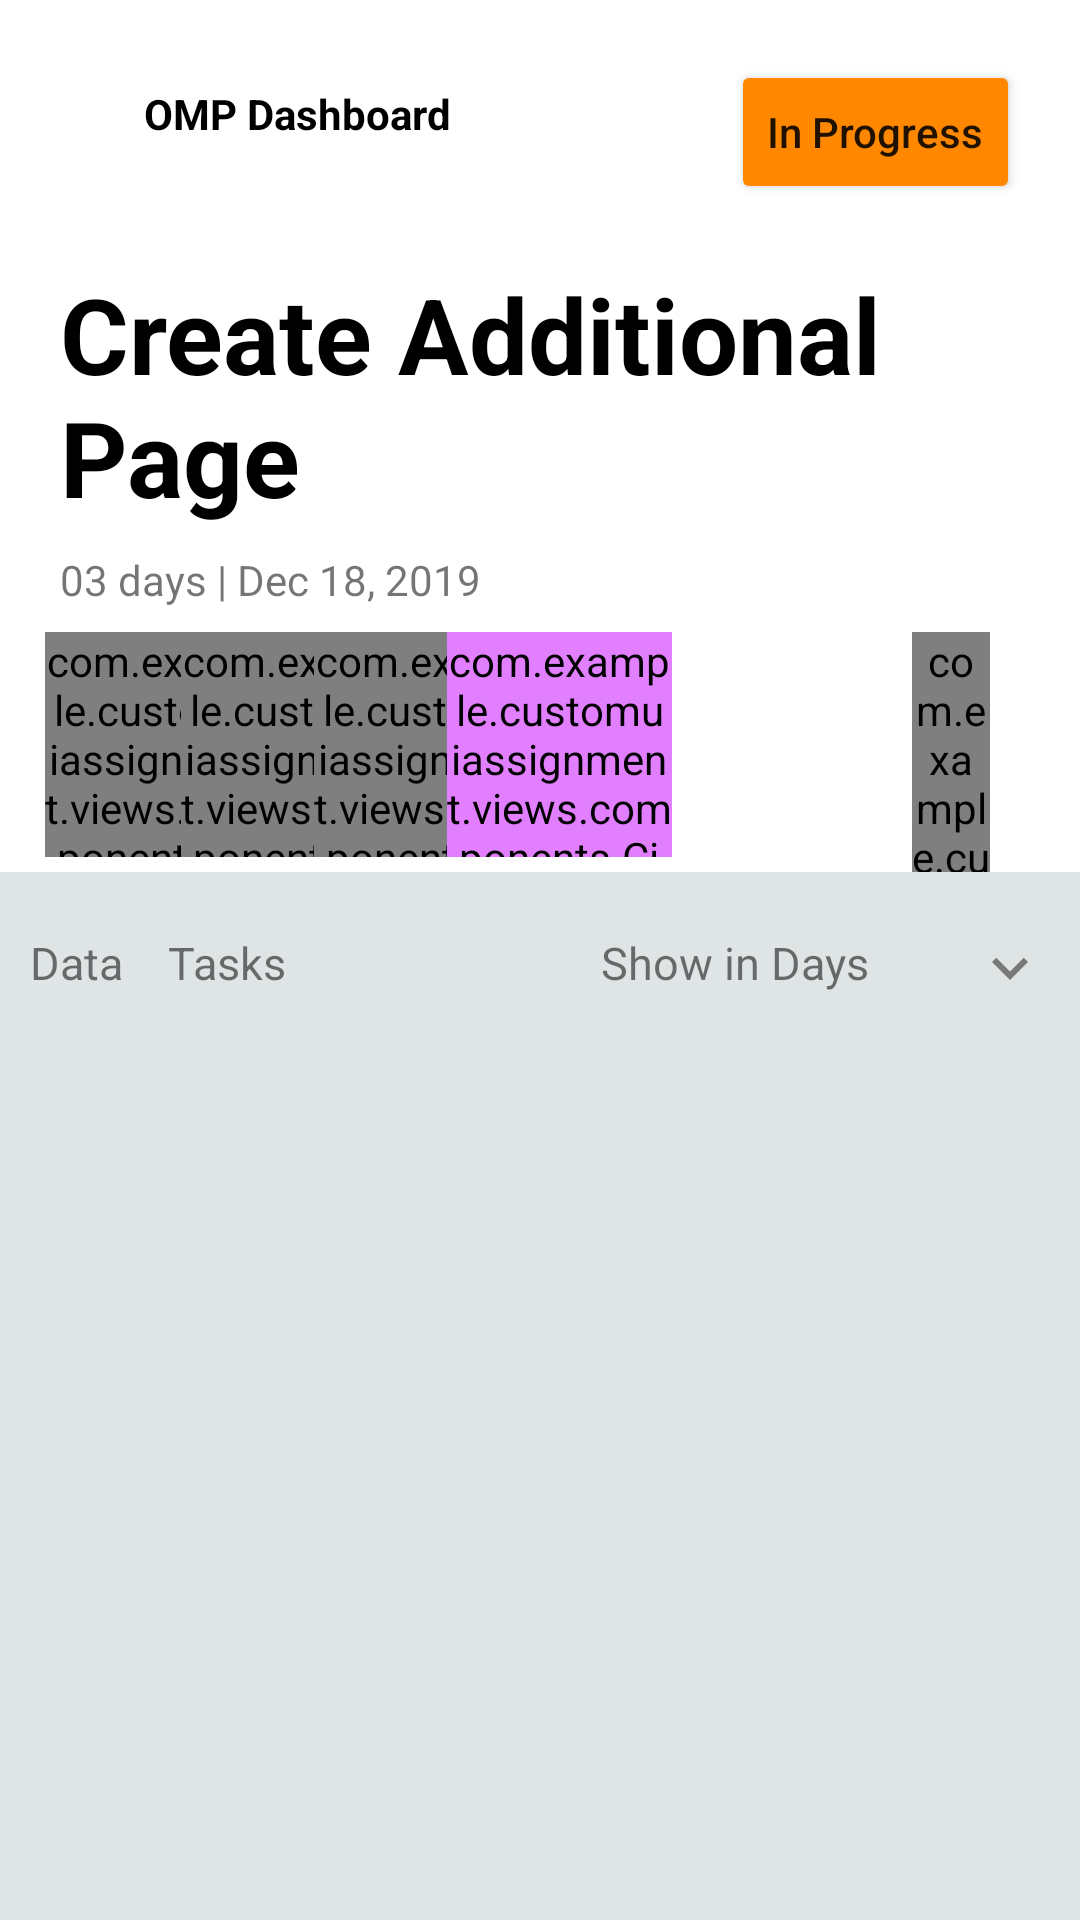

Icon bounding boxes for this 1080x1920 phone screenshot, format (x1, y1, x2, y2):
expand more: (992, 958, 1028, 980)
